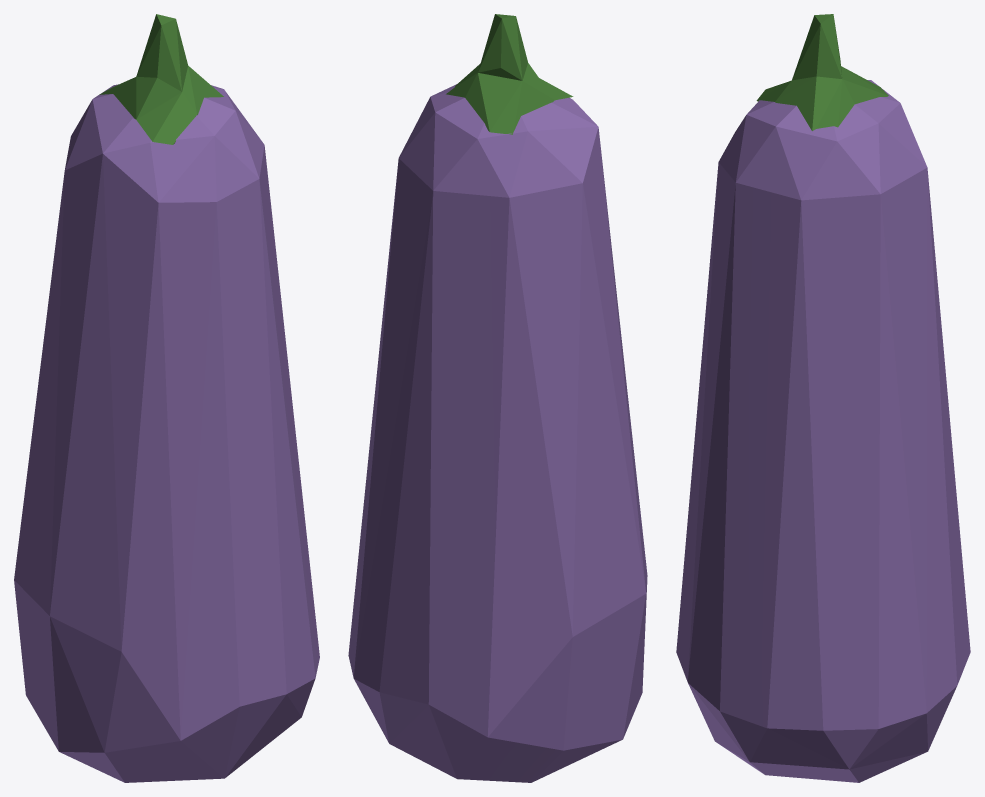
File: SM_Food_Eggplant_01.fbx
The picture shows the model from 3 angles, left to right: view 1: azimuth 30°, elevation 25°; view 2: azimuth 150°, elevation 25°; view 3: azimuth 270°, elevation 25°; orthographic projection.
Visible parts, largest first — view 1: SM_Food_Eggplant_01; view 2: SM_Food_Eggplant_01; view 3: SM_Food_Eggplant_01.
Part boxes in pixels (bbox=[...]): SM_Food_Eggplant_01: bbox=[14, 14, 319, 782]; SM_Food_Eggplant_01: bbox=[348, 14, 647, 782]; SM_Food_Eggplant_01: bbox=[676, 14, 970, 782].
Size of the model in its own units: 0.0784 by 0.208 by 0.0755.
